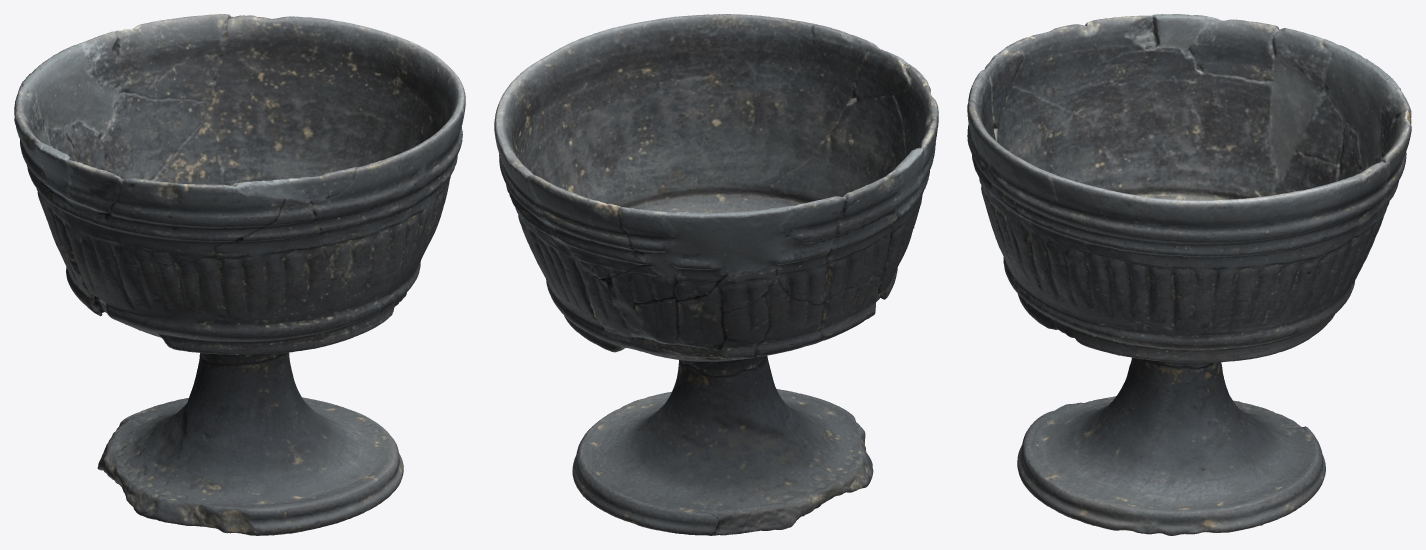
Rendered from bucchero_calice_dal_tumulo_di_Molinello.glb.
3 views of the same model, side by side, from view 1: azimuth 30°, elevation 25°; view 2: azimuth 150°, elevation 25°; view 3: azimuth 270°, elevation 25° (orthographic).
Visible parts, largest first — view 1: Object_5, Object_4, Object_2, Object_6, Object_3, Object_7; view 2: Object_4, Object_5, Object_2, Object_3, Object_6, Object_7; view 3: Object_2, Object_4, Object_5, Object_6, Object_7, Object_3.
Boxes of the visible parts, x1,y1,x2,y2 form: Object_5: (14, 14, 457, 455); Object_4: (14, 83, 459, 514); Object_2: (40, 15, 465, 491); Object_6: (70, 272, 414, 535); Object_3: (39, 22, 380, 515); Object_7: (87, 19, 462, 535); Object_4: (527, 14, 938, 531); Object_5: (502, 17, 938, 497); Object_2: (494, 17, 903, 535); Object_3: (513, 166, 920, 528); Object_6: (553, 193, 895, 535); Object_7: (494, 23, 896, 494); Object_2: (967, 17, 1386, 535); Object_4: (967, 14, 1387, 462); Object_5: (968, 14, 1411, 514); Object_6: (1008, 191, 1354, 535); Object_7: (1003, 168, 1332, 533); Object_3: (1045, 63, 1406, 514).
Size of the model in its own units: 0.1229 by 0.1142 by 0.1215.
Materials: 1 (1 with a texture image).
